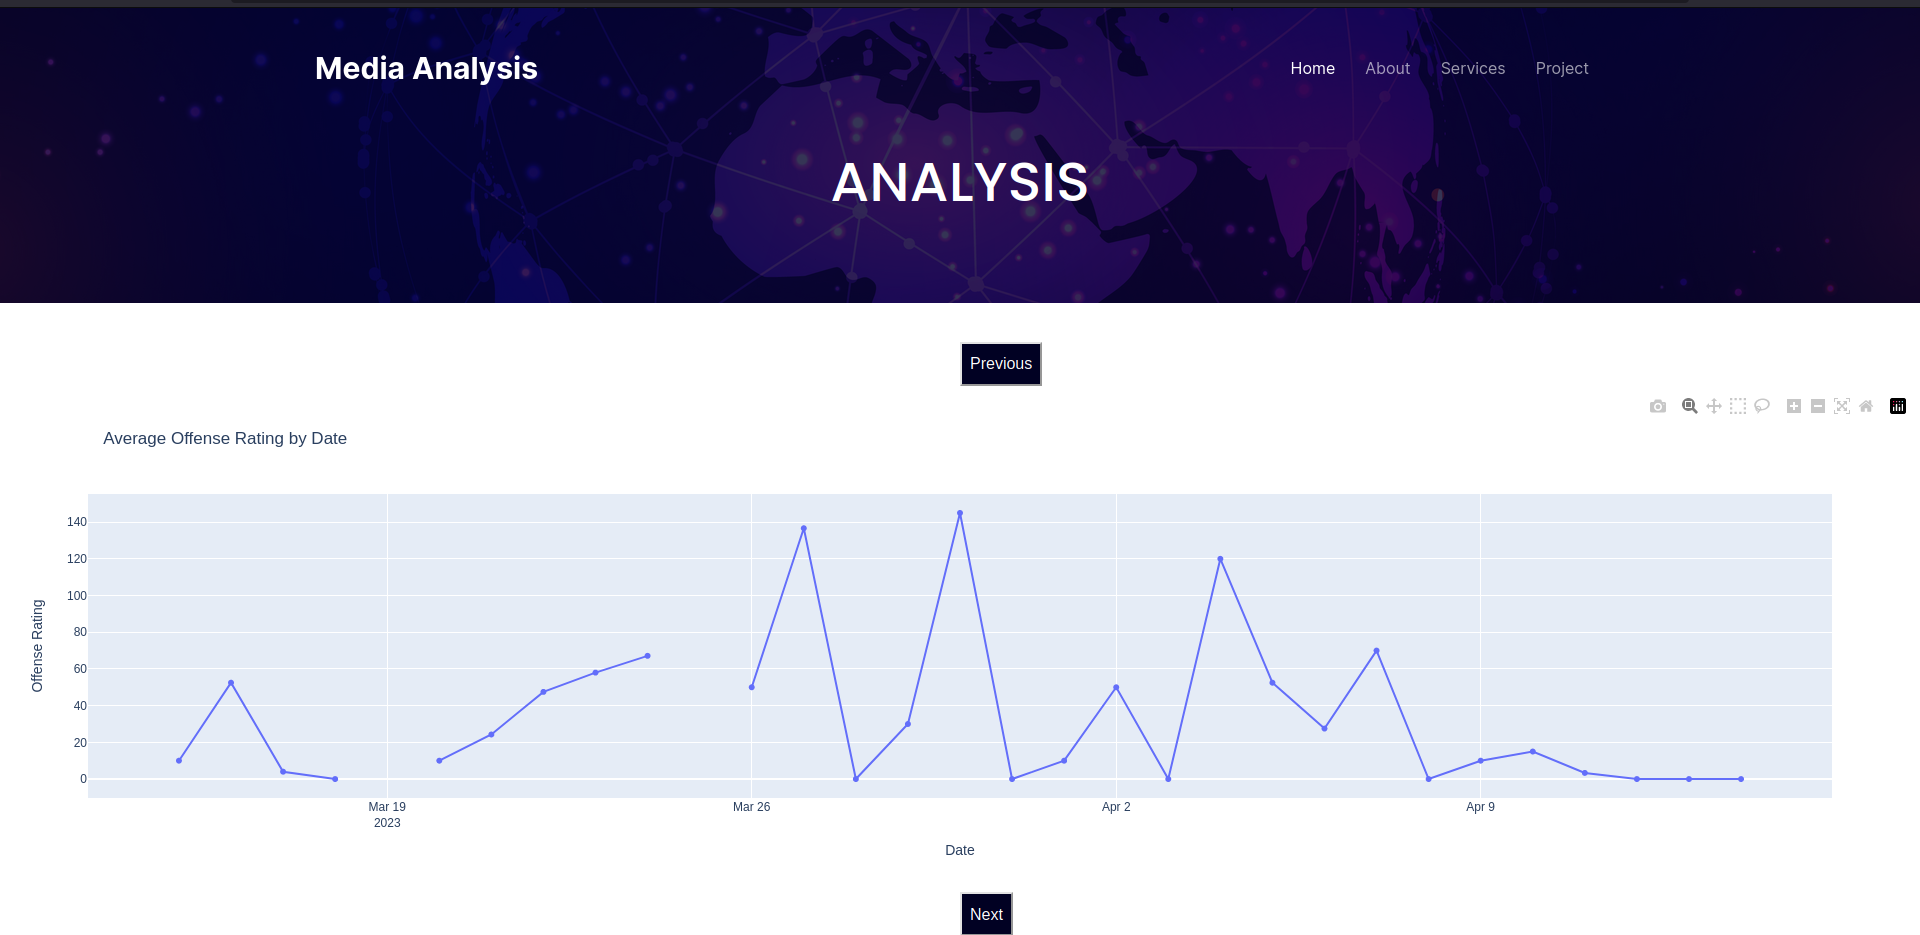

Layout of this report page (visuals, bound fields, positions):
{"tool":"tableau","page":{"name":"Dashboard 3","canvas":[1366,768],"ordinal":2},"visuals":[{"type":"legend","title":"Trend time","param":"[sqlproxy.1qj1cma1x8tl5b1dqzc431xlqy6b].[sum:Offense Rating:qk]","box":[1148,20,191,73]},{"type":"worksheet","title":"Trend time","mark":"Line","rows":["Offense Rating","Offense Rating"],"cols":["publishedAt"],"box":[20,58,1302,307]}]}

Visuals, with their boxes on the page's 1366x768 design canvas (x1, y1, x2, y2). These are canvas units, not pixel positions in the 1920x935 screenshot, which may show the page scaled, cropped or inside an application window:
"Trend time" legend: 1148:20:1339:93
"Trend time" worksheet (Line marks): 20:58:1322:365
